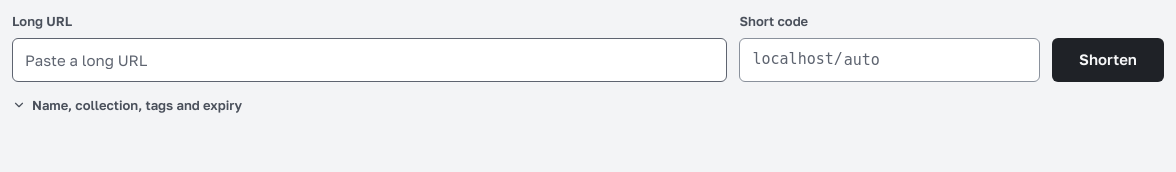
Test: CreateLinkForm › shows a taken code under the code field
The width and height of the screenshot is (1176, 172).
Type "https://example.com" into the field labelled "Long URL" at (370, 60), box [12,38,728,82]
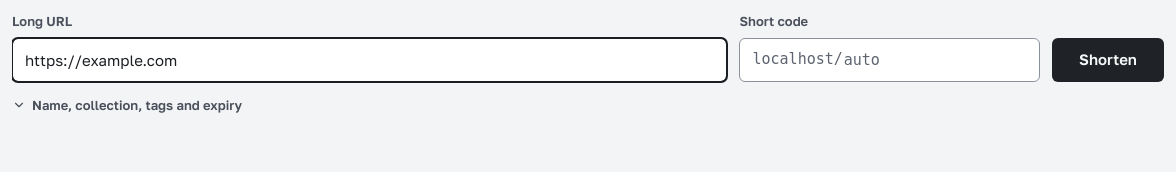
Type "taken" into the field labelled "Short code" at (890, 60), box [740,38,1040,82]
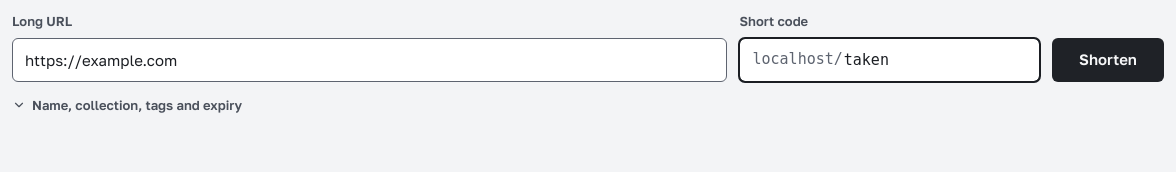
Click the button "Shorten" at (1108, 60), box [1052,38,1164,82]
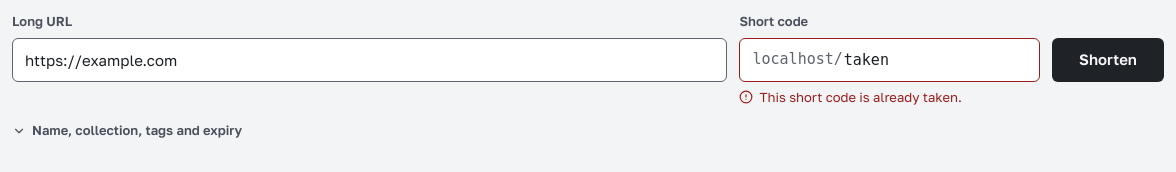
Check: the text "This short code is already taken." is shown, box [740,88,962,104]
